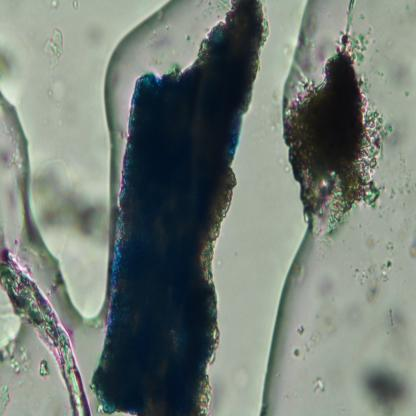Air bubble: (96, 0, 206, 118)
Background material: (284, 39, 394, 236), (40, 158, 108, 250), (42, 25, 75, 116), (352, 247, 391, 311), (372, 370, 415, 414), (0, 122, 28, 188), (14, 215, 44, 260), (302, 303, 335, 343), (0, 339, 26, 379), (207, 374, 230, 416), (0, 54, 19, 94), (0, 385, 16, 416), (292, 257, 304, 286), (310, 368, 322, 397), (35, 360, 51, 381), (291, 341, 299, 362), (50, 0, 61, 14), (70, 1, 80, 12), (410, 246, 416, 261)
Cellulose filter fibre: (0, 265, 91, 416)
Fragment: (88, 1, 269, 416)
